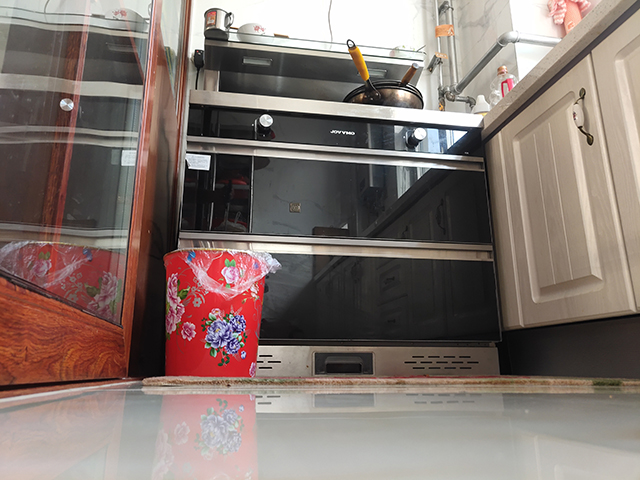cabinet: (479, 1, 640, 380)
carpet: (139, 374, 640, 388)
trashcan: (161, 246, 271, 377)
